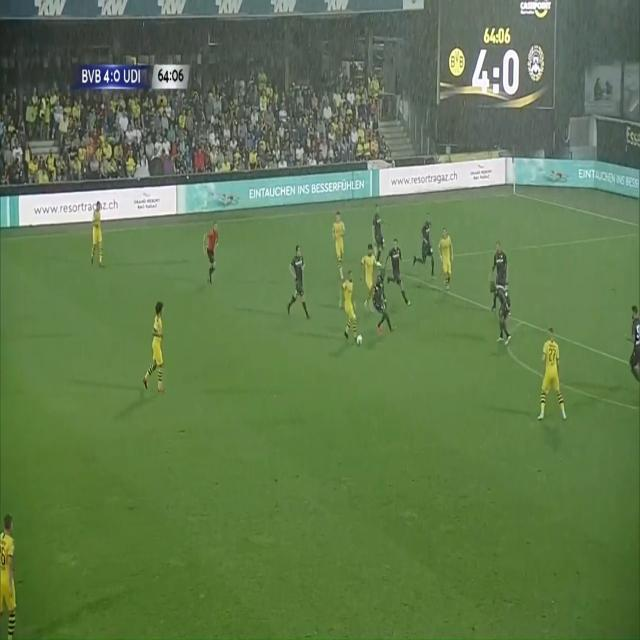ball: (357, 328, 365, 352)
player: (537, 319, 570, 432), (145, 292, 177, 406), (0, 500, 26, 640), (484, 280, 516, 363), (288, 237, 314, 330), (88, 195, 114, 272), (415, 209, 439, 285), (387, 232, 410, 308), (363, 237, 383, 320), (372, 275, 395, 339), (343, 269, 361, 345), (331, 204, 348, 278), (626, 300, 640, 386), (370, 197, 389, 259), (494, 231, 510, 296), (441, 226, 454, 291)
referee: (202, 215, 228, 292)
